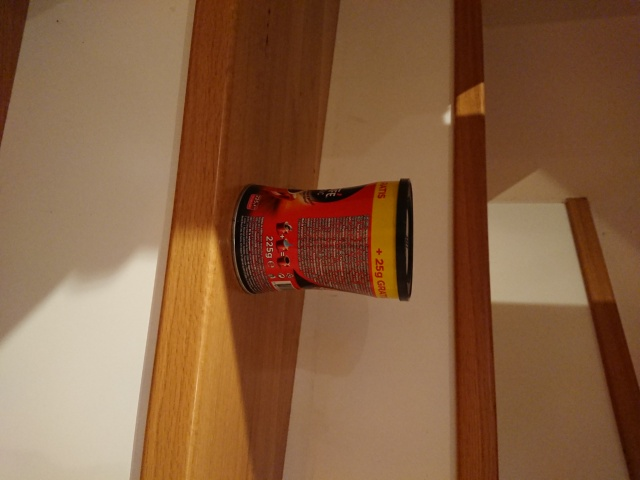Nescafe Classic 225g: (229, 175, 416, 304)
